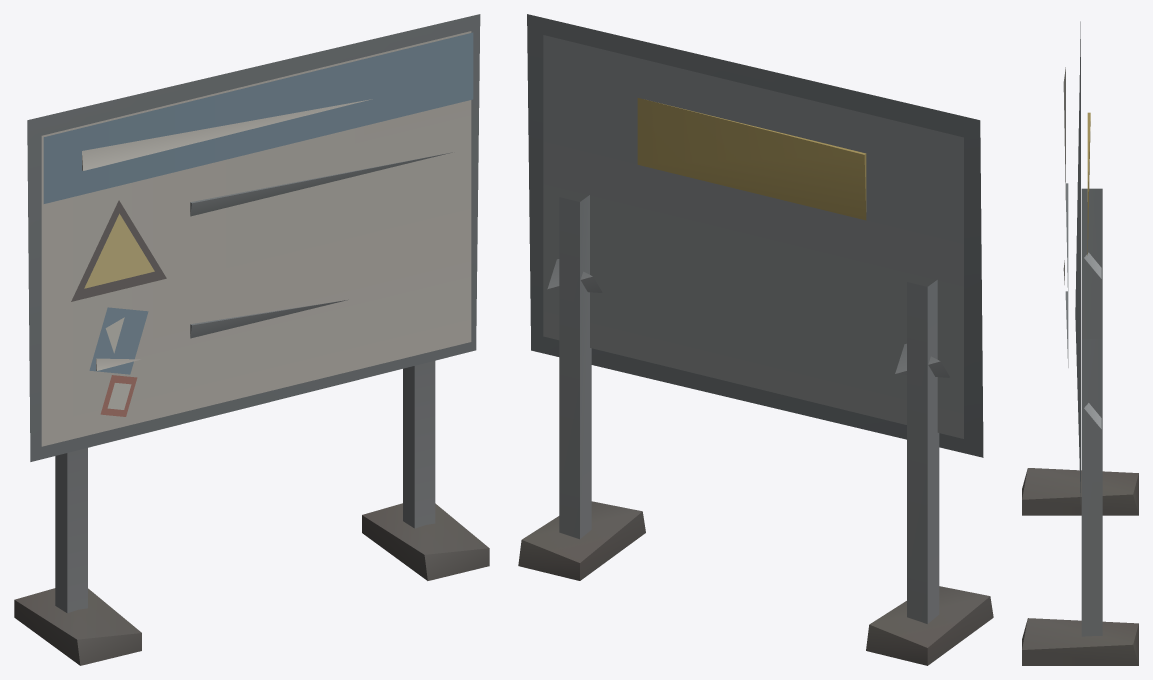
File: sign.lod1.glb
3 renders of one model, left to right at view 1: azimuth 30°, elevation 25°; view 2: azimuth 150°, elevation 25°; view 3: azimuth 270°, elevation 25°, orthographic. The views are drawn at different scales.
Size of the model in its own units: 1.98 by 2.2 by 0.5.
